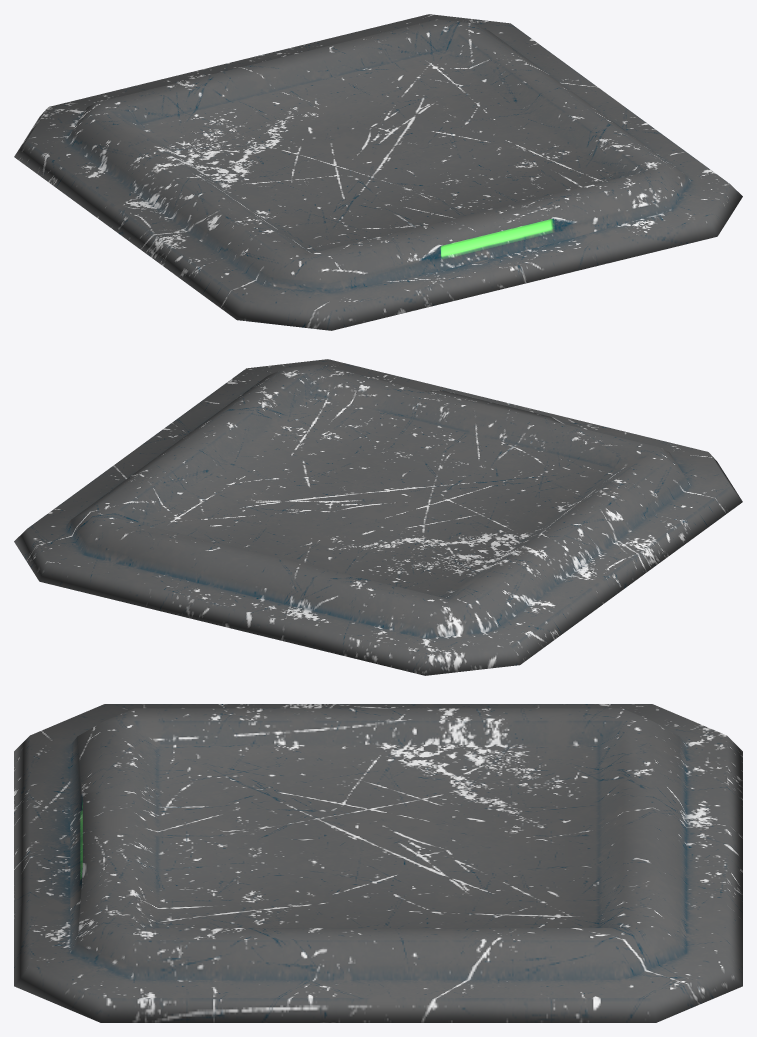
File: Przycisk_active.glb
3 renders of one model, top to bottom at view 1: azimuth 30°, elevation 25°; view 2: azimuth 150°, elevation 25°; view 3: azimuth 270°, elevation 25°, orthographic. The views are drawn at different scales.
Parts seen in each view (by area): view 1: Cube.006; view 2: Cube.006; view 3: Cube.006.
Boxes of the visible parts, x1,y1,x2,y2 form: Cube.006: [14, 14, 742, 330]; Cube.006: [14, 359, 742, 675]; Cube.006: [14, 704, 742, 1022].
Bounding box in the file's own units: 2 × 0.1344 × 2.
1 material, 1 textured.
